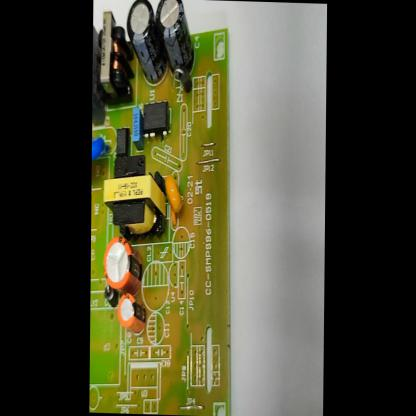Cap1: (102, 235, 148, 290)
Cap2: (116, 292, 148, 334)
Cap3: (125, 0, 157, 83)
Cap4: (154, 0, 196, 79)
MOSFET: (142, 96, 170, 142)
Mov: (92, 130, 112, 170)
Transformer: (98, 3, 126, 104)
